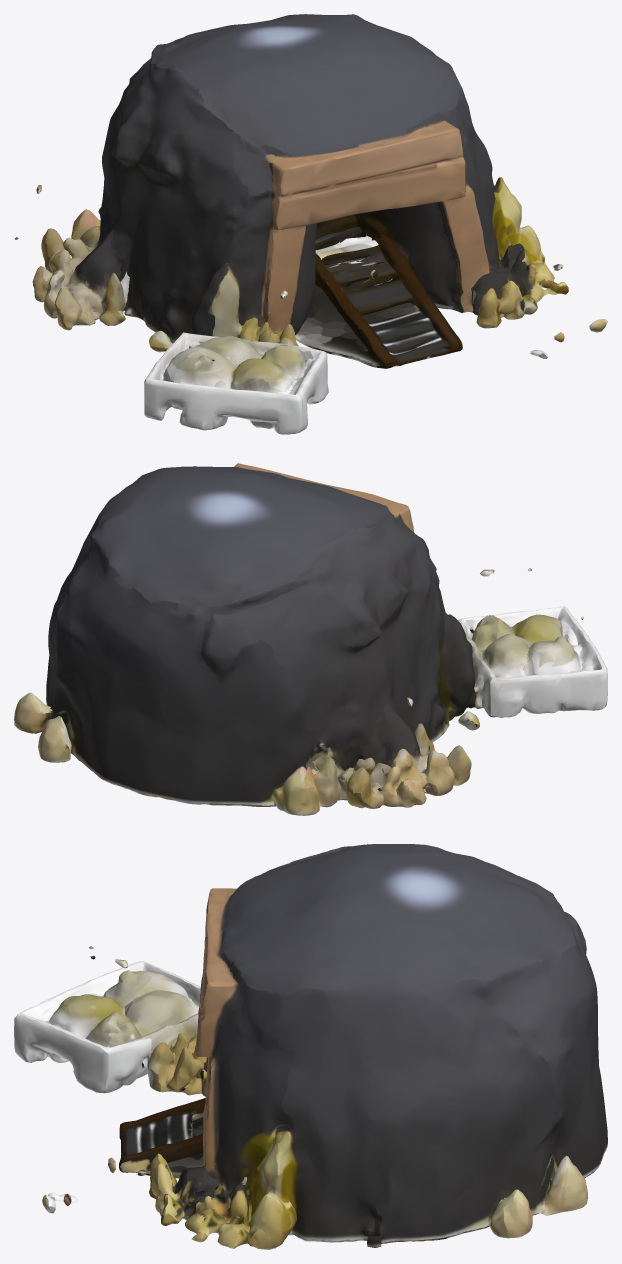
Rendered from 18e76bb3-cdd9-4083-80c4-850839f973c9_textured_mesh.glb.
3 views of the same model, one above another, from view 1: azimuth 30°, elevation 25°; view 2: azimuth 150°, elevation 25°; view 3: azimuth 270°, elevation 25° (orthographic). The views are drawn at different scales.
Visible parts, largest first — view 1: tmpuejxxscr.ply; view 2: tmpuejxxscr.ply; view 3: tmpuejxxscr.ply.
Part boxes in pixels (left/top/right/bottom): tmpuejxxscr.ply: left=14, top=14, right=607, bottom=434; tmpuejxxscr.ply: left=14, top=463, right=607, bottom=815; tmpuejxxscr.ply: left=14, top=844, right=607, bottom=1249.
Size of the model in its own units: 1.94 by 0.9551 by 1.96.
1 material, 1 textured.
